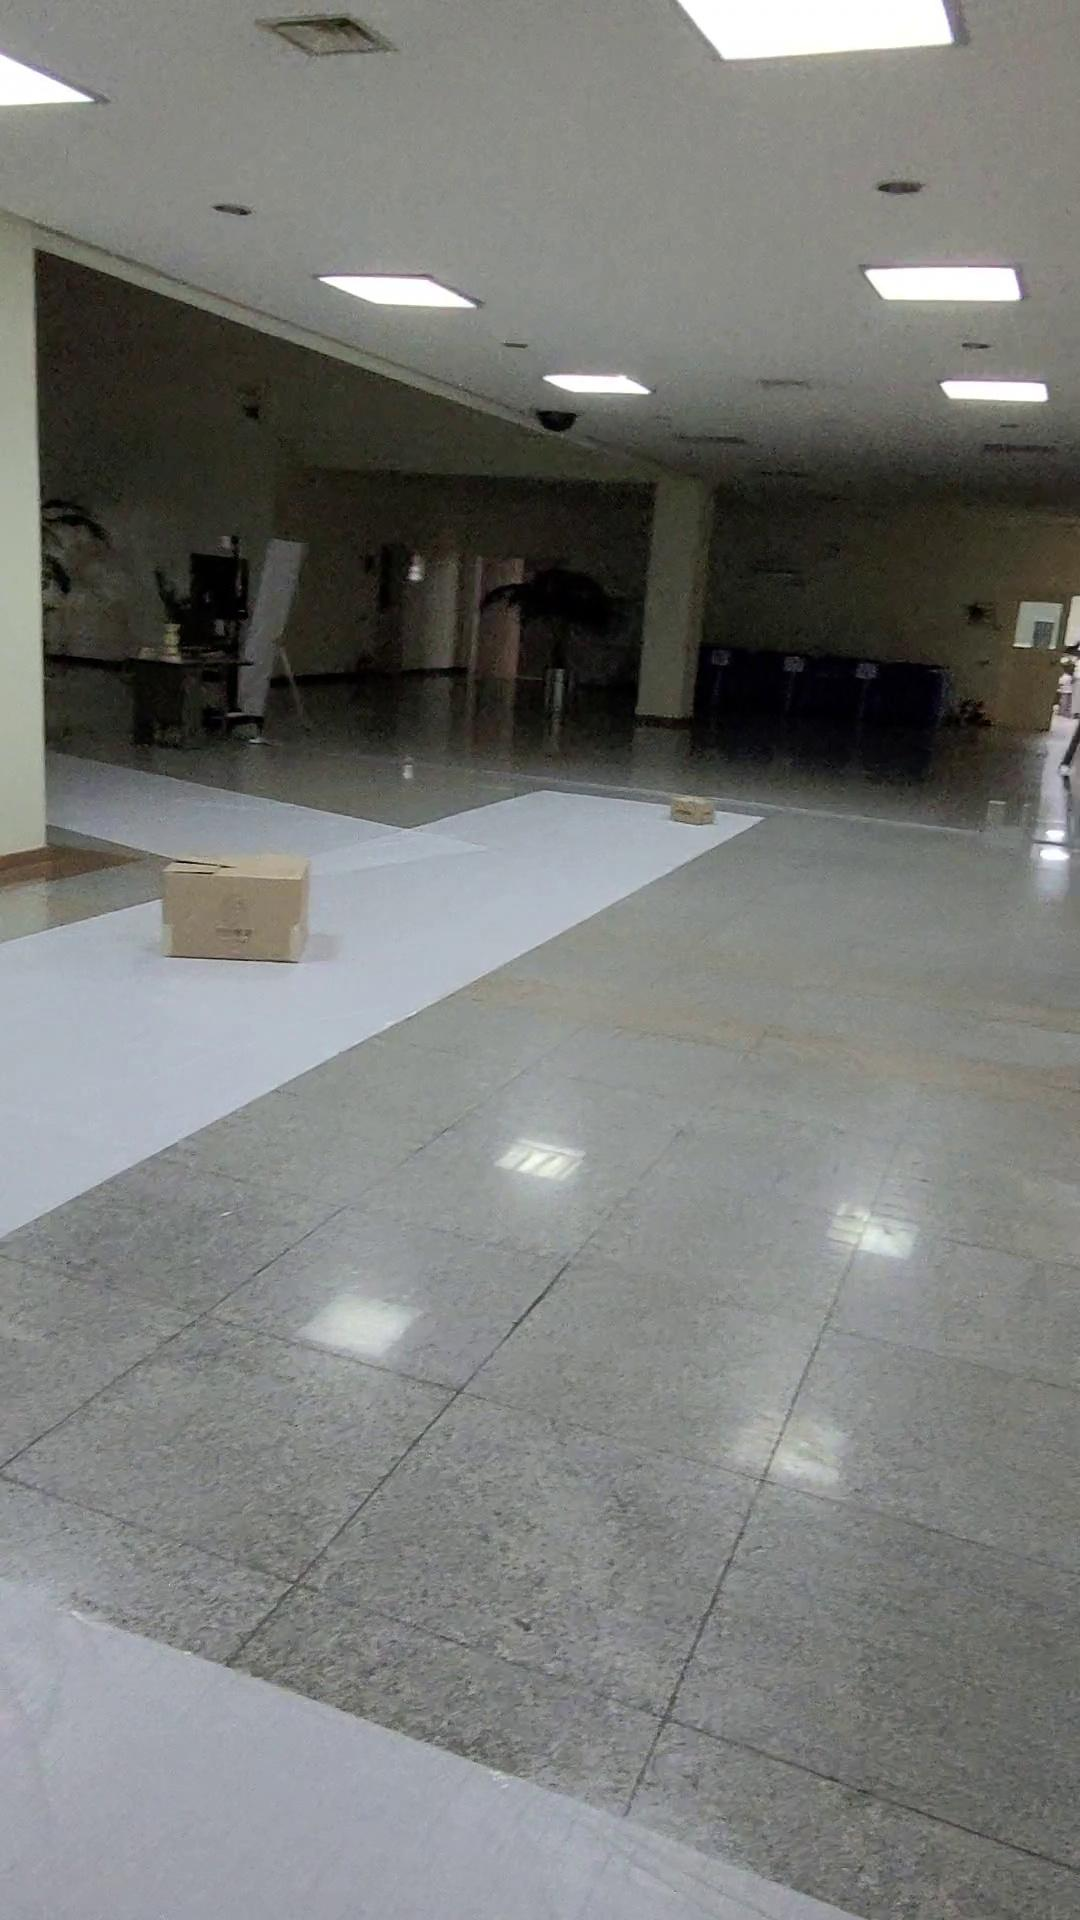Box: (141, 833, 330, 971), (666, 781, 717, 835)
